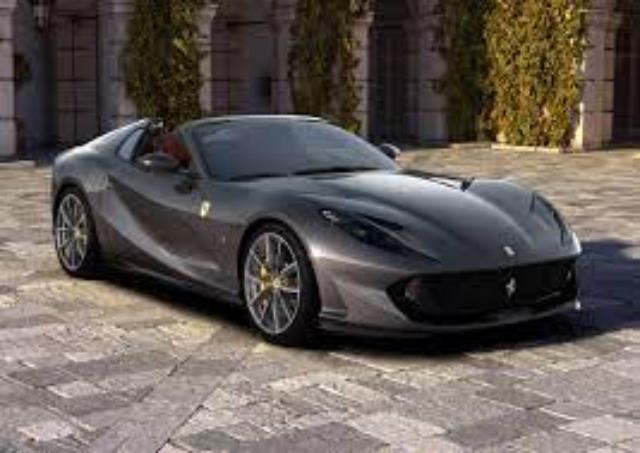ferrari: (51, 114, 583, 344)
